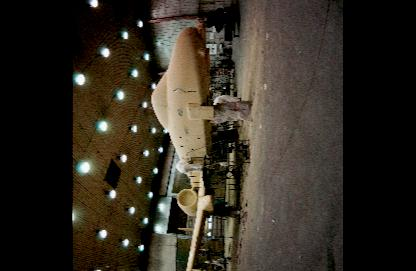A10: (151, 17, 251, 270)
